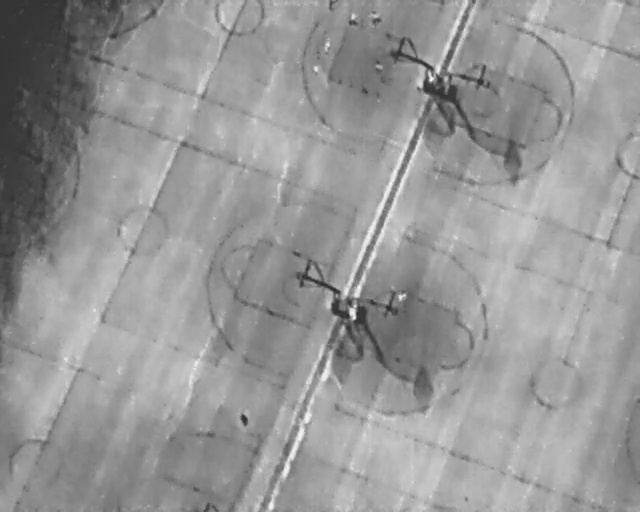Person: (369, 8, 381, 27), (396, 286, 407, 306), (372, 57, 382, 72), (348, 11, 357, 25), (312, 62, 320, 76), (325, 38, 332, 53)
